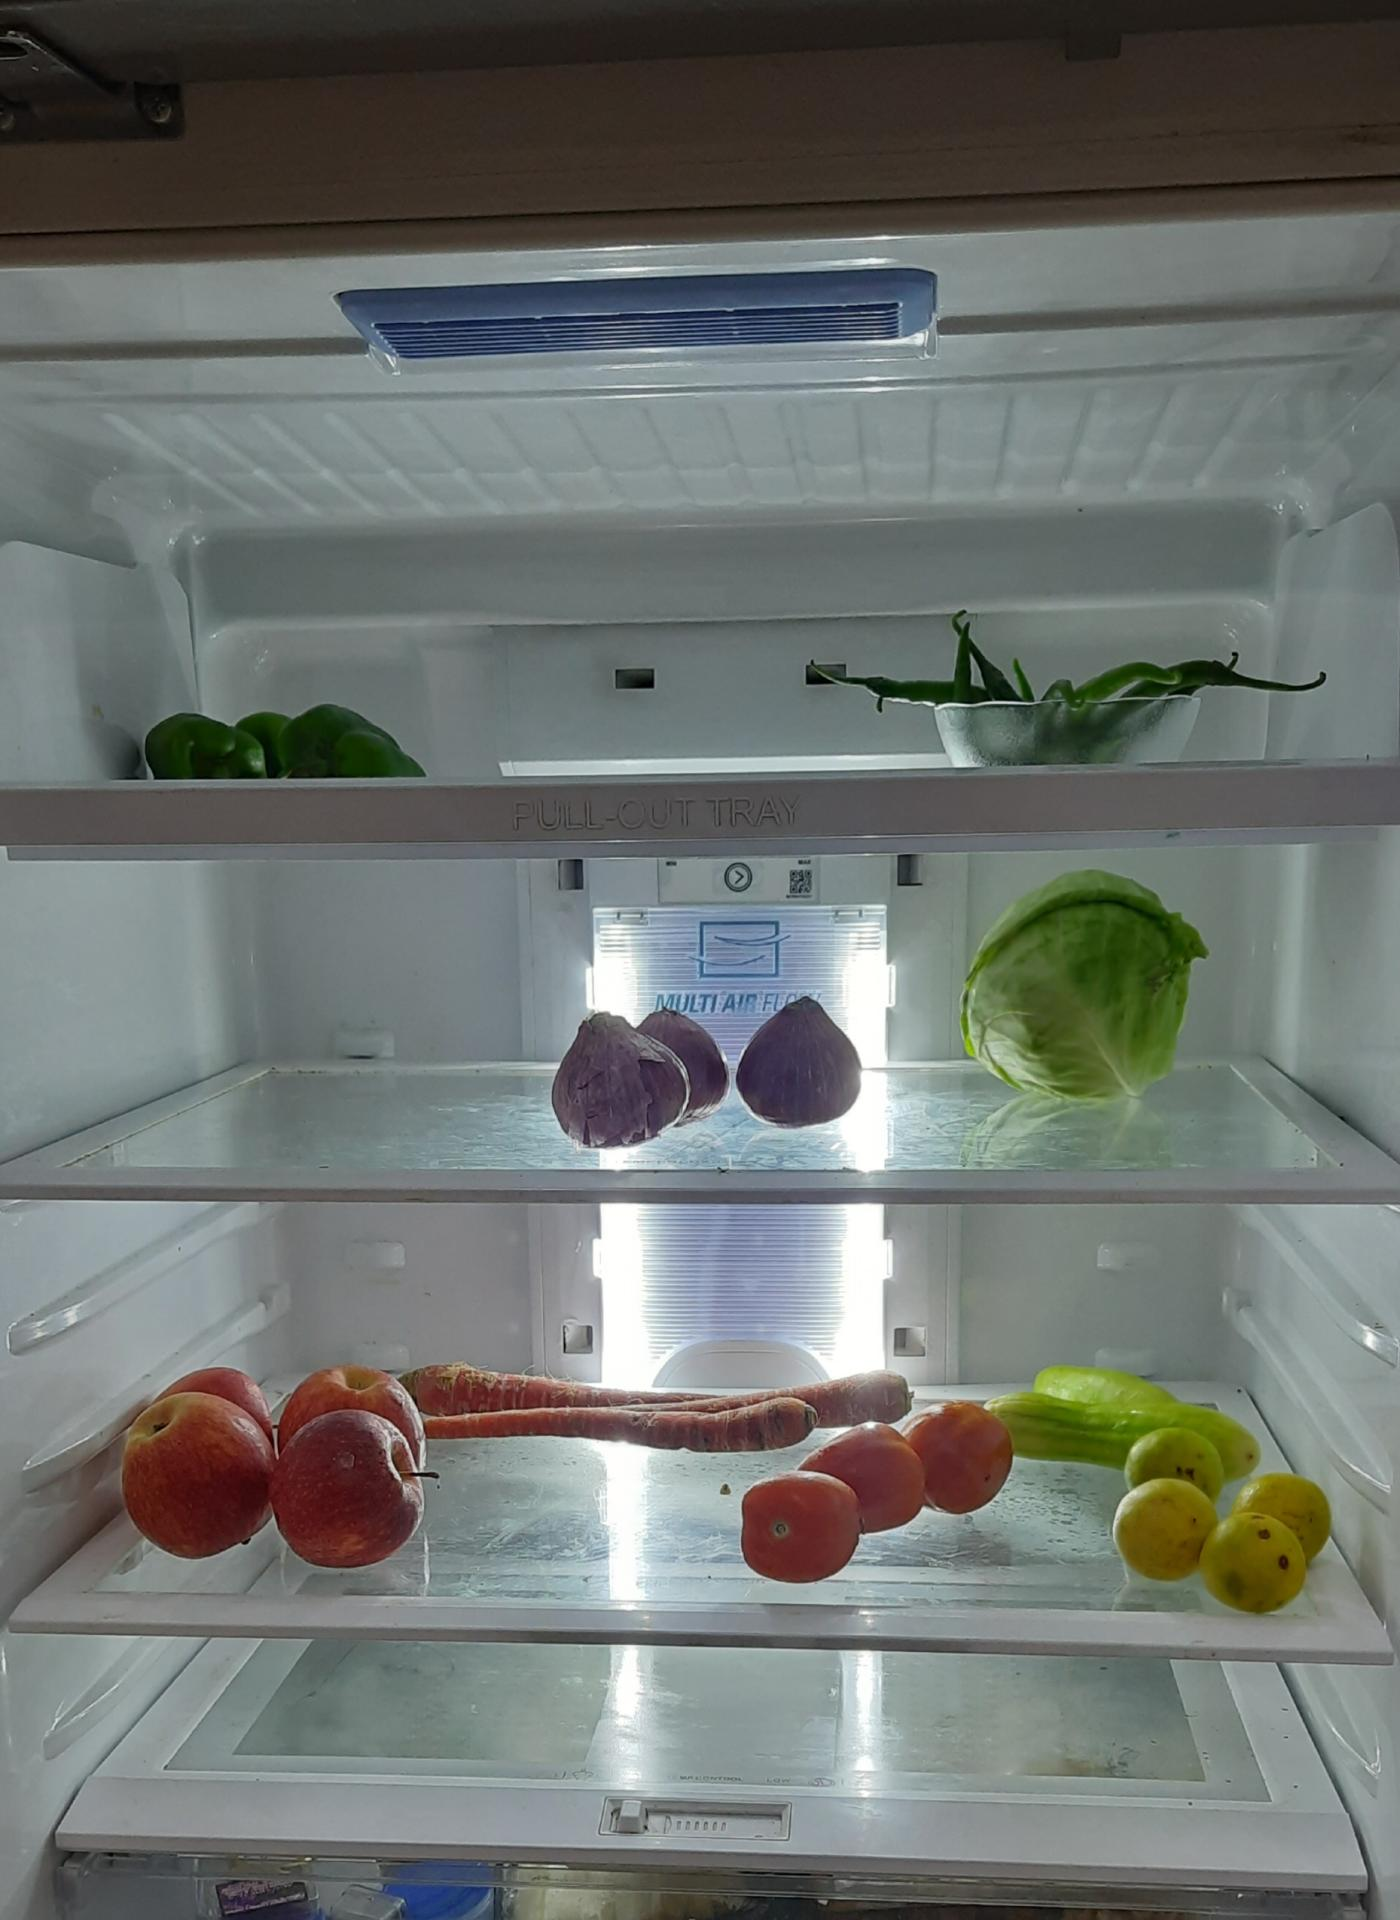apple: (125, 1364, 432, 1571)
cabbage: (951, 863, 1202, 1102)
capsicum: (127, 687, 426, 777)
carrots: (413, 1349, 924, 1459), (738, 1392, 1017, 1564)
chillies: (838, 614, 1328, 762)
cucumber: (990, 1361, 1255, 1474)
lemon: (1108, 1410, 1337, 1611)
onion: (552, 1003, 734, 1152), (738, 990, 872, 1133)
